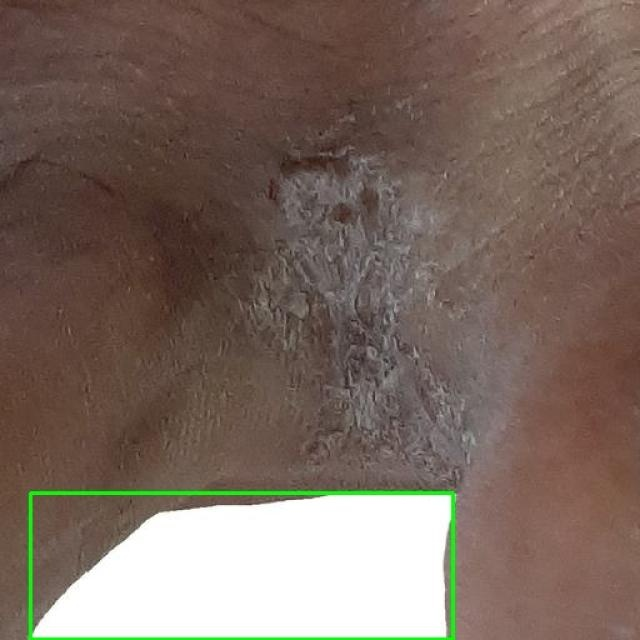Contact Dermatitis: (30, 492, 454, 639)
